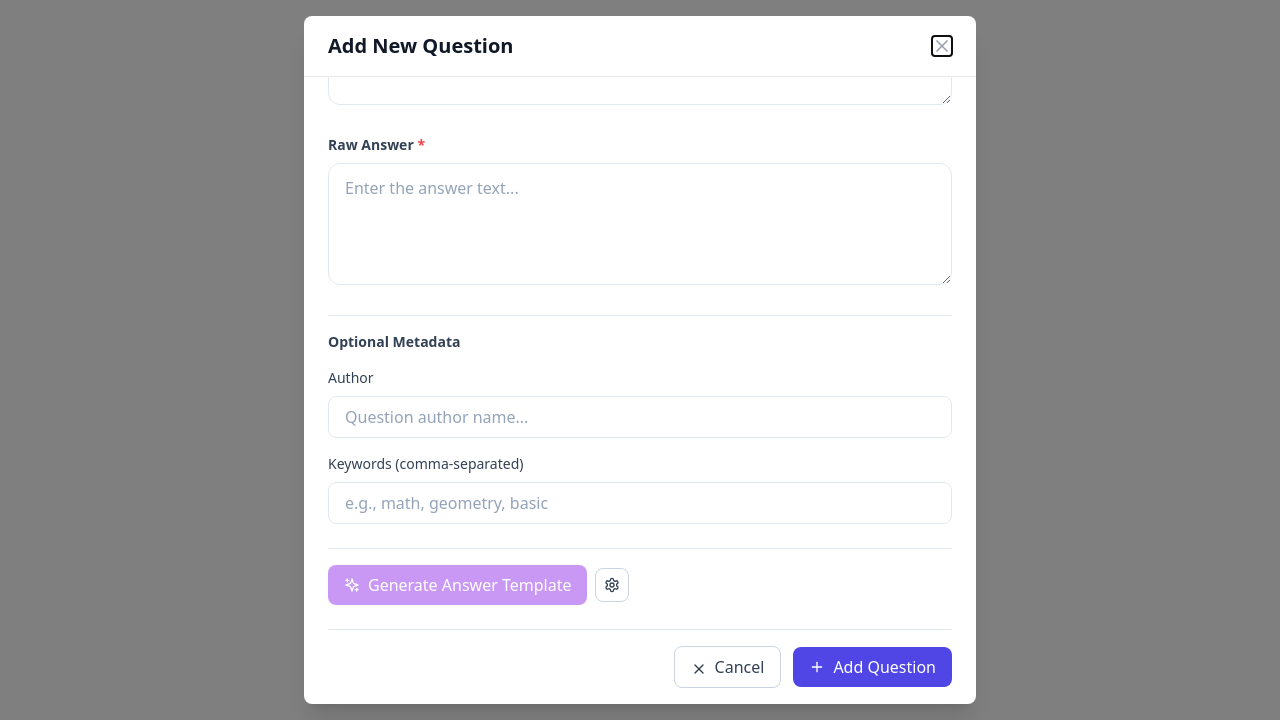
Test: AddQuestionModal › Template Generation › opens settings menu when settings icon is clicked
(page scrolled)
Click the button titled "Generation settings" at (612, 585), box [596, 568, 630, 602]
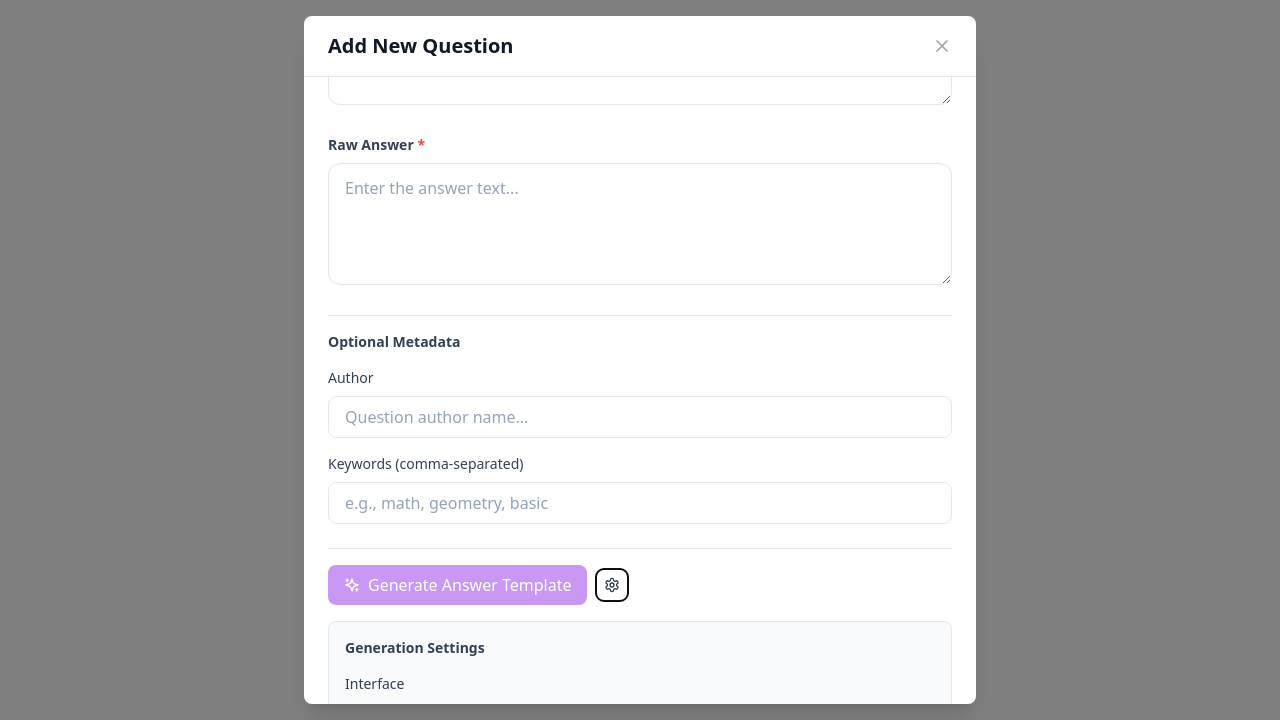
Check: the heading "Generation Settings" is shown, box [345, 638, 485, 657]
